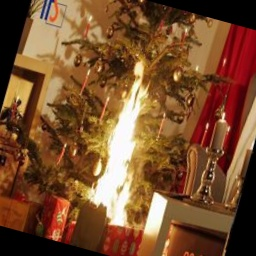fire: (58, 45, 191, 251)
